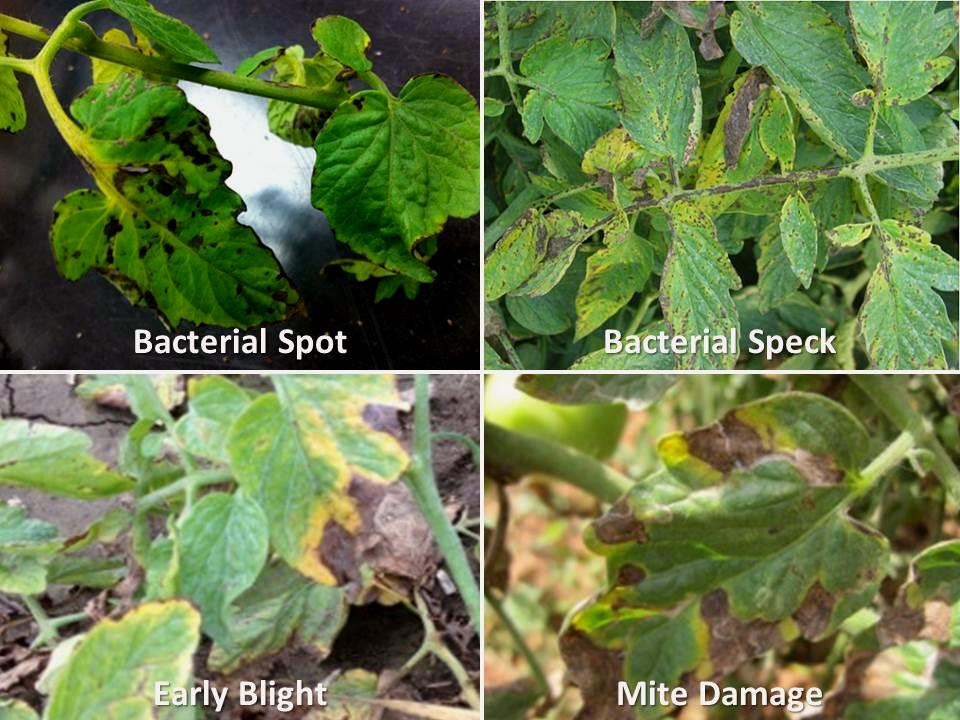Tomato Early blight leaf: (45, 385, 426, 715)
Tomato leaf bacterial spot: (45, 83, 302, 351), (283, 81, 478, 312), (733, 5, 929, 207), (818, 209, 960, 362), (599, 5, 713, 183), (642, 177, 749, 365), (767, 170, 838, 287), (752, 77, 803, 168)
